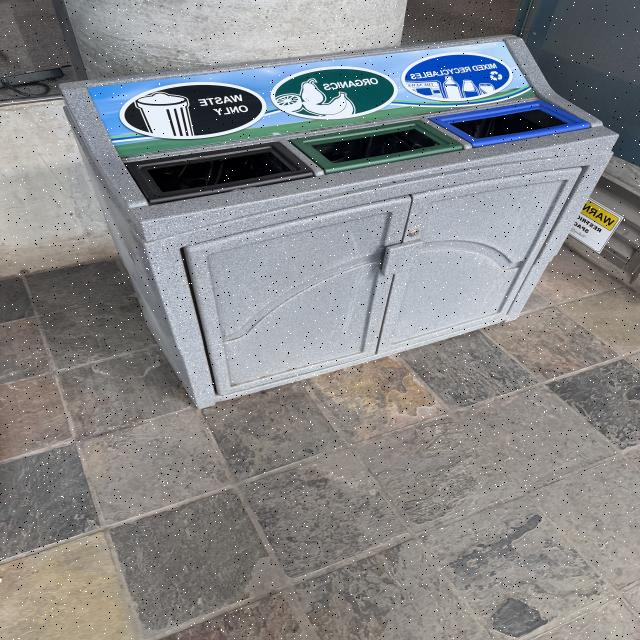Dustbin: (61, 33, 622, 411)
